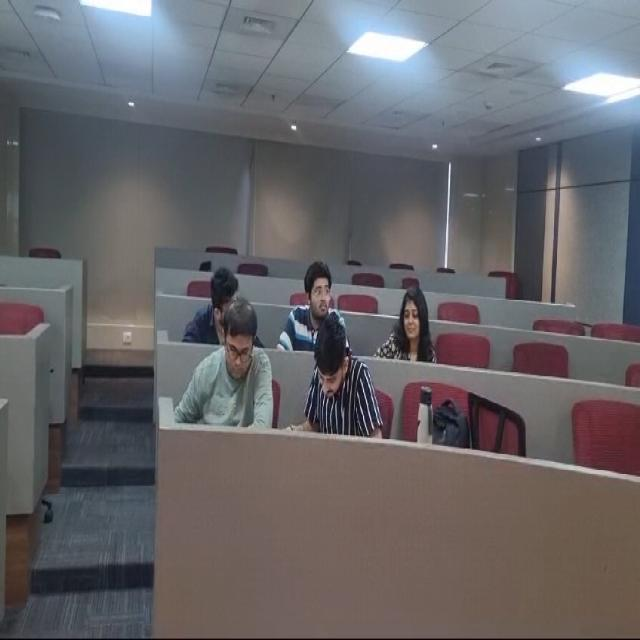cheating: (301, 312, 366, 431), (217, 294, 267, 412), (394, 294, 441, 366), (295, 252, 338, 330), (202, 252, 238, 316)
